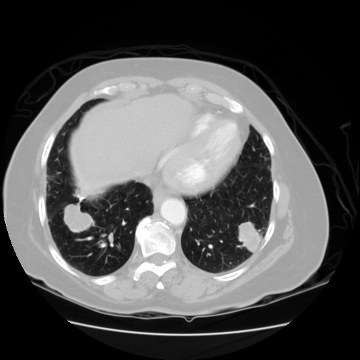nodule: (63, 205, 91, 233)
